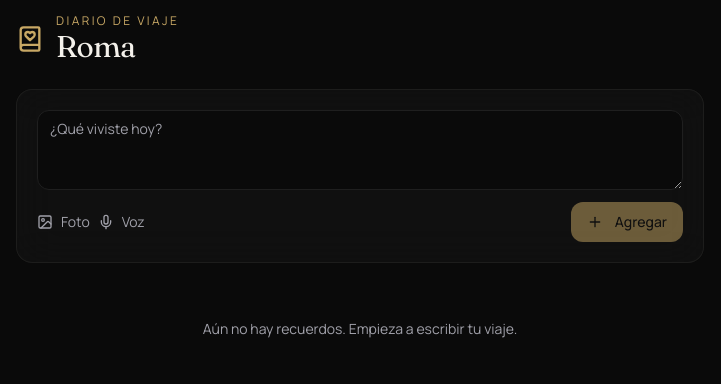
Test case: nota de voz en el diario (grabación + transcripción en el servidor) › error del servidor al transcribir: mensaje del servidor y el borrador queda igual
Later steps or results of the test are not shown.
Check: the heading "Roma" is shown, box [56,28,136,65]
Type "Borrador" into the text box named "Entrada del diario" at (360, 150), box [37,110,683,190]
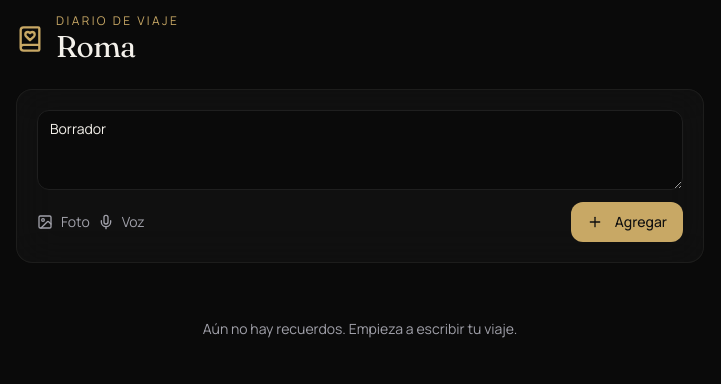
Click the button with aria-label "Grabar nota de voz" at (121, 222), box [98,212,145,232]
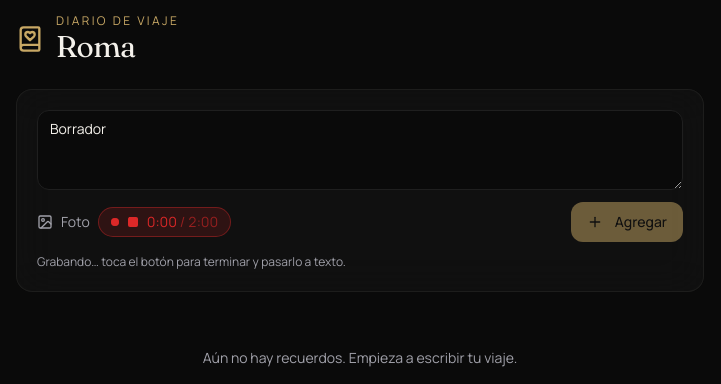
Check: the element with test id "voice-timer" is shown, box [147,212,218,232]
